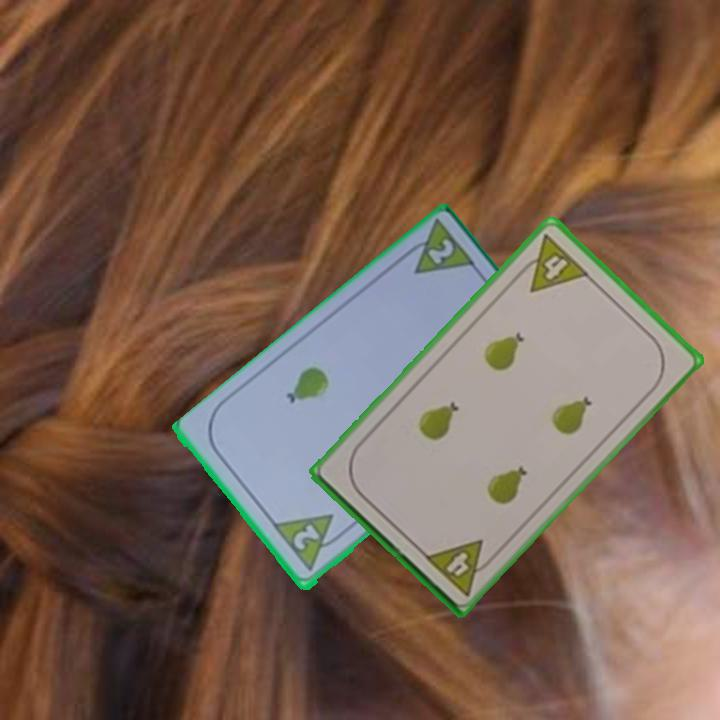2p: (396, 217, 480, 279), (270, 511, 349, 576)
4p: (511, 230, 592, 295), (420, 535, 499, 599)
